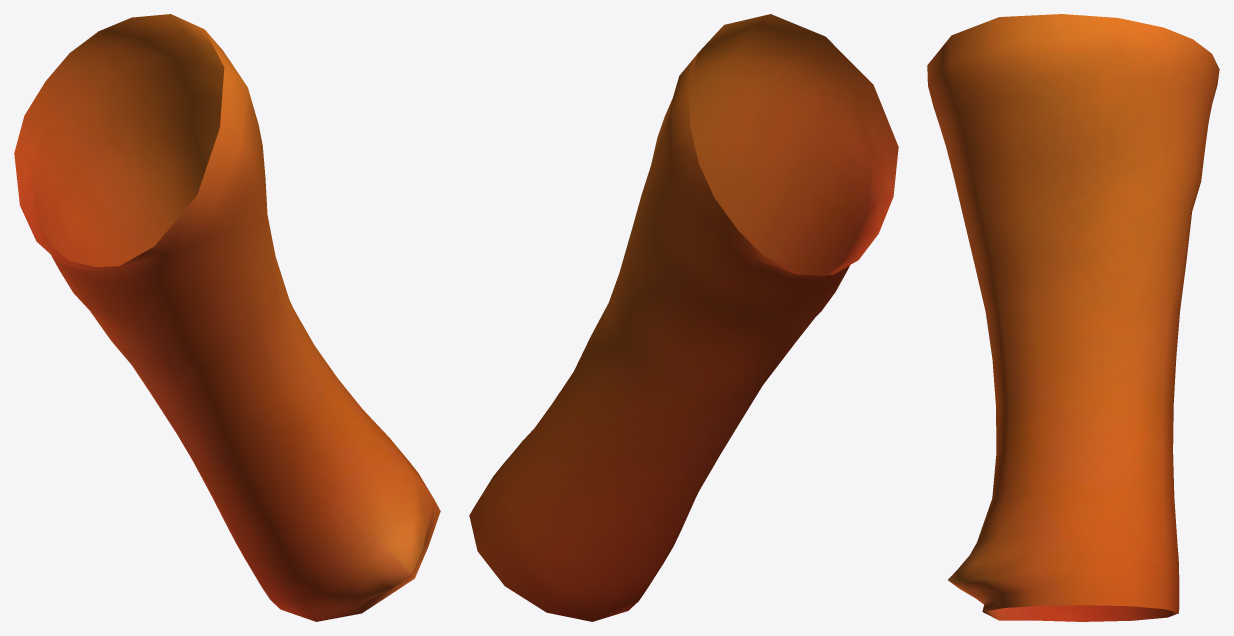
Rendered from cb_brazo_der_0.obj.
The picture shows the model from 3 angles, left to right: view 1: azimuth 30°, elevation 25°; view 2: azimuth 150°, elevation 25°; view 3: azimuth 270°, elevation 25°; orthographic projection. The views are drawn at different scales.
Visible parts, largest first — view 1: object 2, arm right upper 01_232, arm right upper 03_234, object 4, Brazo_der_cb_crash, arm right lower 01_224; view 2: object 2, arm right upper 01_232, object 4, arm right upper 03_234, Brazo_der_cb_crash, arm right lower 01_224; view 3: object 2, arm right upper 01_232, arm right upper 03_234, object 4, arm right lower 01_224, Brazo_der_cb_crash.
Boxes of the visible parts, left/top/right/bottom form: object 2: left=87, top=128, right=374, bottom=531; arm right upper 01_232: left=36, top=36, right=269, bottom=335; arm right upper 03_234: left=213, top=410, right=426, bottom=602; object 4: left=14, top=14, right=253, bottom=281; Brazo_der_cb_crash: left=133, top=300, right=323, bottom=460; arm right lower 01_224: left=262, top=463, right=440, bottom=621; object 2: left=528, top=139, right=837, bottom=536; arm right upper 01_232: left=633, top=35, right=871, bottom=342; object 4: left=666, top=14, right=898, bottom=278; arm right upper 03_234: left=486, top=429, right=694, bottom=599; Brazo_der_cb_crash: left=574, top=337, right=762, bottom=467; arm right lower 01_224: left=469, top=466, right=647, bottom=621; object 2: left=954, top=161, right=1192, bottom=497; arm right upper 01_232: left=928, top=51, right=1211, bottom=210; arm right upper 03_234: left=948, top=490, right=1179, bottom=579; object 4: left=927, top=14, right=1219, bottom=114; arm right lower 01_224: left=948, top=570, right=1179, bottom=621; Brazo_der_cb_crash: left=986, top=302, right=1179, bottom=405.
Bounding box in the file's own units: 2.41 × 3.76 × 1.75.
